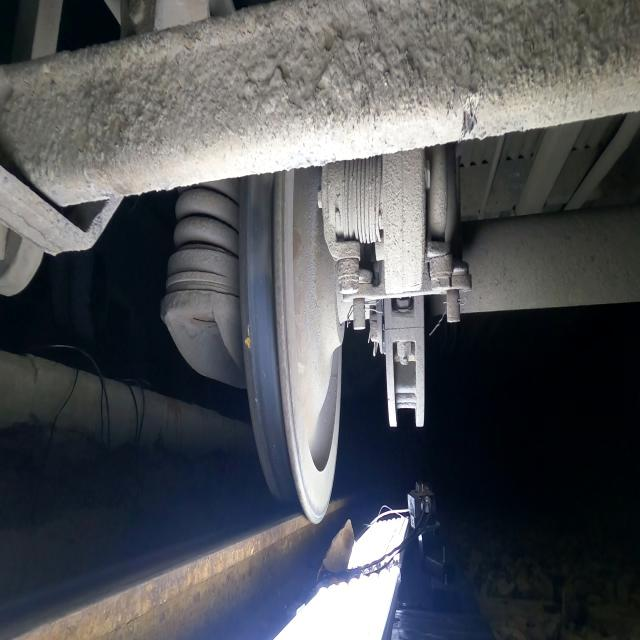Cracks-Scratches: (243, 323, 252, 352)
Shelling: (248, 176, 273, 278)
Wheel: (239, 167, 344, 525)
